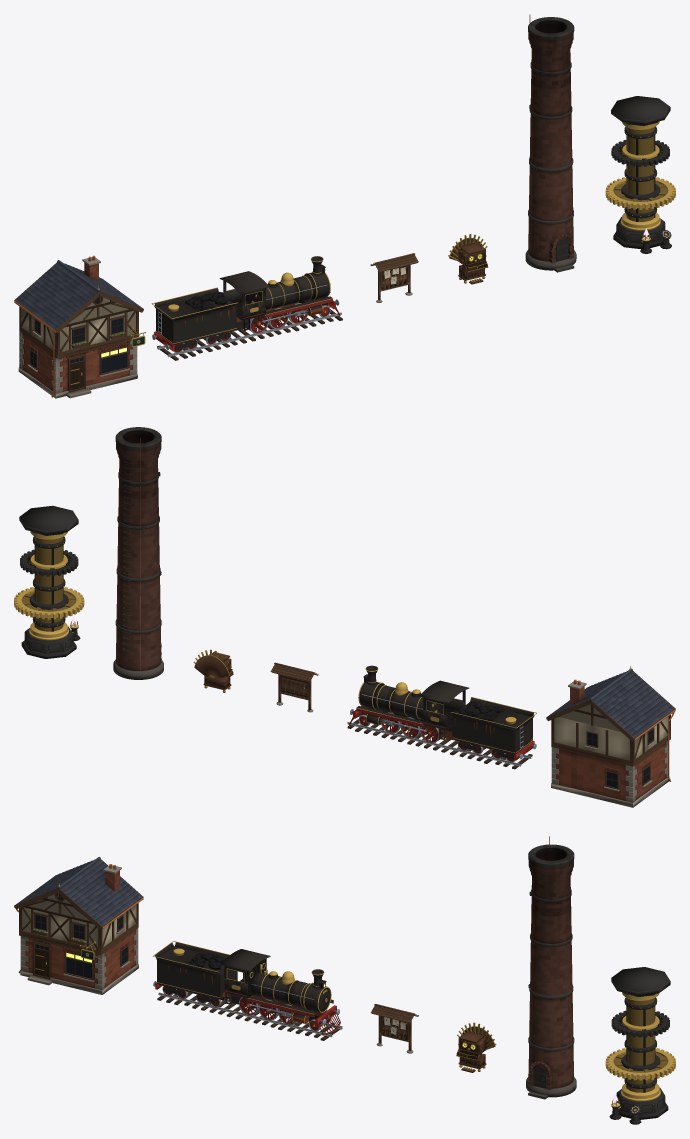
File: props2.glb
3 renders of one model, top to bottom at view 1: azimuth 30°, elevation 25°; view 2: azimuth 150°, elevation 25°; view 3: azimuth 330°, elevation 25°, orthographic.
Parts seen in each view (by area): view 1: prop_house_body, prop_chimney_body, prop_locomotive_body, rotor, prop_drive_shaft_body, prop_organ_body, prop_nail_board_body; view 2: prop_house_body, prop_chimney_body, prop_locomotive_body, rotor, prop_drive_shaft_body, prop_nail_board_body, prop_organ_body; view 3: prop_house_body, prop_chimney_body, prop_locomotive_body, rotor, prop_drive_shaft_body, prop_organ_body, prop_nail_board_body.
Boxes of the visible parts, x1,y1,x2,y2 form: prop_house_body: [14, 255, 146, 398]; prop_chimney_body: [525, 14, 576, 272]; prop_locomotive_body: [151, 256, 342, 360]; rotor: [605, 126, 675, 221]; prop_drive_shaft_body: [611, 96, 671, 253]; prop_organ_body: [449, 237, 488, 284]; prop_nail_board_body: [370, 253, 418, 302]; prop_house_body: [546, 666, 675, 807]; prop_chimney_body: [113, 427, 163, 679]; prop_locomotive_body: [347, 665, 536, 769]; rotor: [14, 536, 84, 631]; prop_drive_shaft_body: [19, 505, 80, 658]; prop_nail_board_body: [270, 662, 318, 712]; prop_organ_body: [194, 651, 233, 692]; prop_house_body: [14, 857, 143, 994]; prop_chimney_body: [526, 836, 576, 1099]; prop_locomotive_body: [153, 941, 342, 1040]; rotor: [605, 997, 675, 1092]; prop_drive_shaft_body: [609, 967, 670, 1124]; prop_organ_body: [456, 1026, 495, 1072]; prop_nail_board_body: [370, 1004, 418, 1053].
Bounding box in the file's own units: 51.41 × 18.6 × 6.6.
